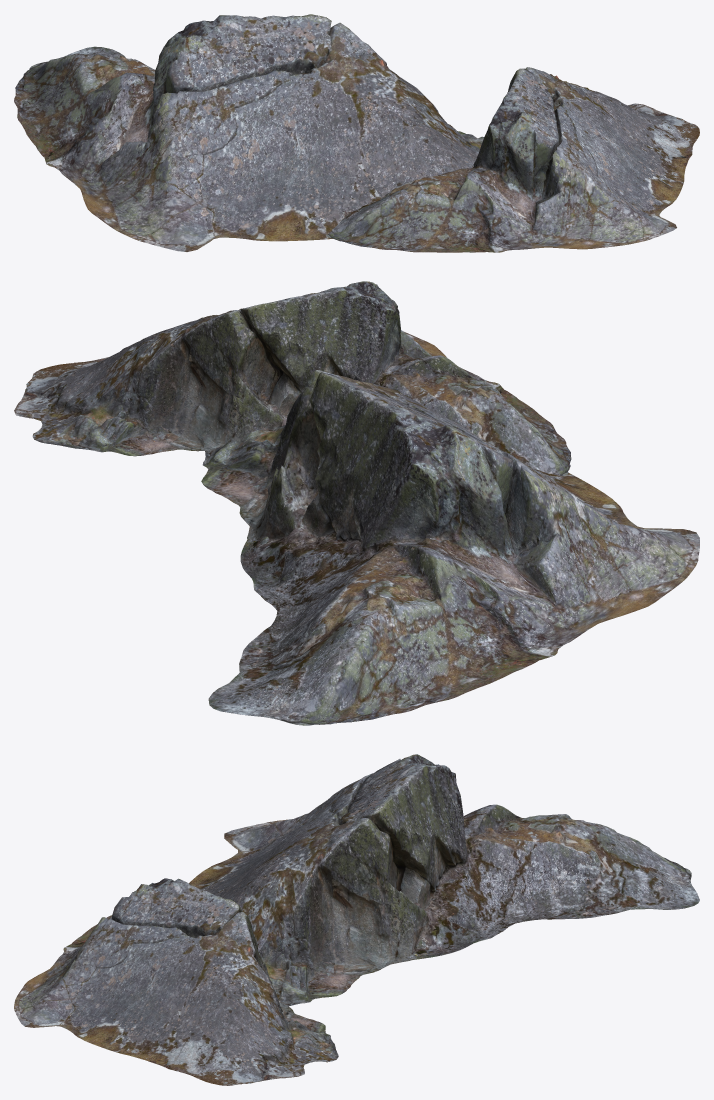
The picture shows the model from 3 angles, top to bottom: view 1: azimuth 30°, elevation 25°; view 2: azimuth 150°, elevation 25°; view 3: azimuth 270°, elevation 25°; orthographic projection. The views are drawn at different scales.
Parts seen in each view (by area): view 1: Low Poly Mountain Rock Photoscan.001, Low Poly Mountain Rock Photoscan; view 2: Low Poly Mountain Rock Photoscan.001, Low Poly Mountain Rock Photoscan; view 3: Low Poly Mountain Rock Photoscan.001, Low Poly Mountain Rock Photoscan.
Boxes of the visible parts, x1,y1,x2,y2 form: Low Poly Mountain Rock Photoscan.001: [14, 14, 484, 251]; Low Poly Mountain Rock Photoscan: [326, 67, 699, 252]; Low Poly Mountain Rock Photoscan.001: [201, 370, 699, 725]; Low Poly Mountain Rock Photoscan: [14, 281, 571, 476]; Low Poly Mountain Rock Photoscan.001: [189, 754, 699, 1006]; Low Poly Mountain Rock Photoscan: [14, 878, 338, 1085].
Size of the model in its own units: 25.56 by 5.97 by 27.59.
Materials: 1 (1 with a texture image).
